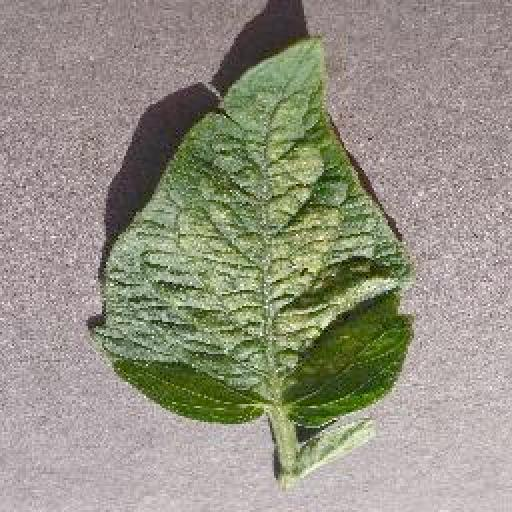disease_tomato: (94, 34, 414, 424)
